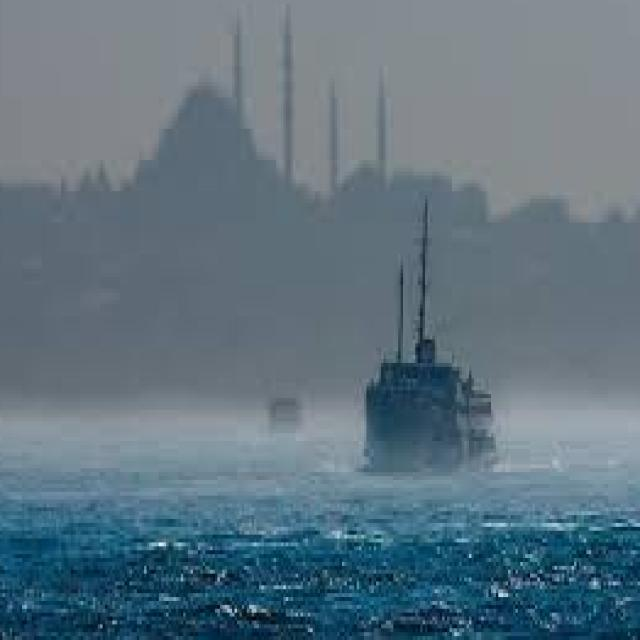fishing boat: (352, 219, 509, 463)
